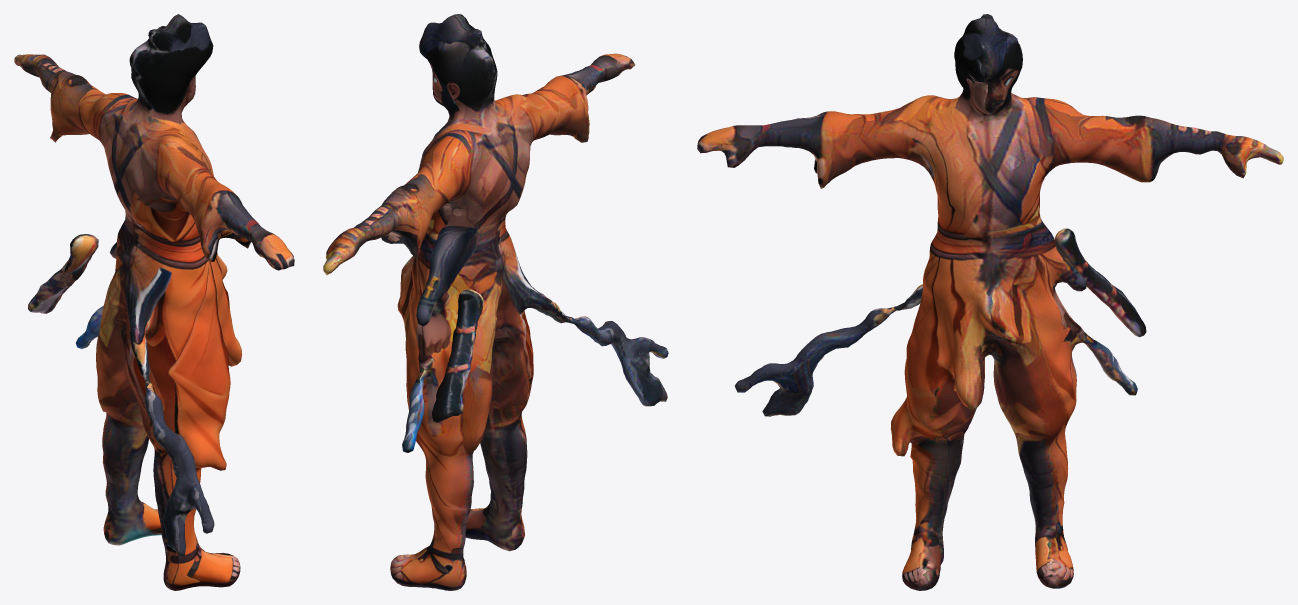
Rendered from Ronin_Swordsman_texture.glb.
The picture shows the model from 3 angles, left to right: view 1: azimuth 30°, elevation 25°; view 2: azimuth 150°, elevation 25°; view 3: azimuth 270°, elevation 25°; orthographic projection. The views are drawn at different scales.
Size of the model in its own units: 0.3089 by 0.9994 by 0.9429.
1 material, 1 textured.
